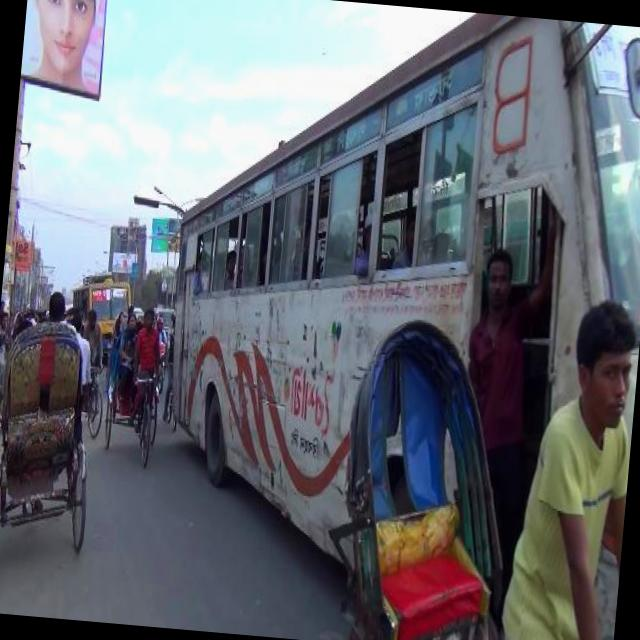bus: (146, 31, 380, 574), (329, 2, 640, 304), (70, 274, 136, 312)
motorcycle: (303, 271, 640, 640), (0, 278, 109, 588), (99, 300, 171, 473)
